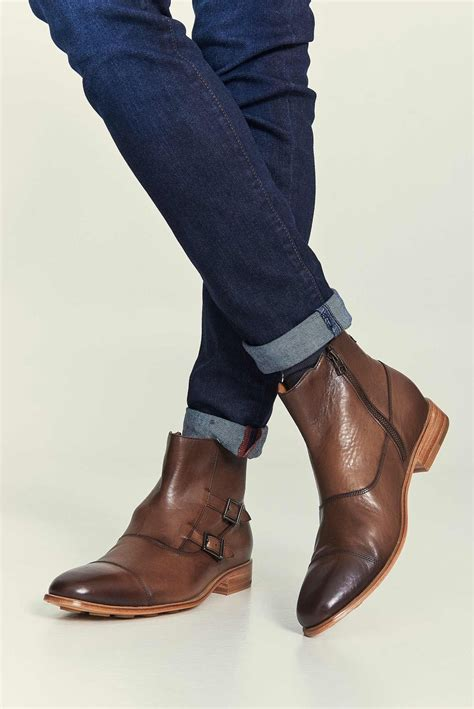cuero: (42, 329, 430, 631)
